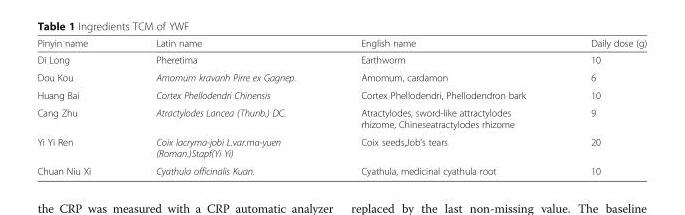table: (36, 37, 646, 176)
table column: (327, 37, 557, 176), (122, 37, 327, 176), (557, 37, 646, 176), (36, 37, 122, 176)
table column header: (36, 37, 646, 51)
table row: (36, 103, 646, 132), (36, 132, 646, 161), (36, 85, 646, 103), (36, 51, 646, 68), (36, 68, 646, 85), (36, 161, 646, 176), (36, 37, 646, 51)
